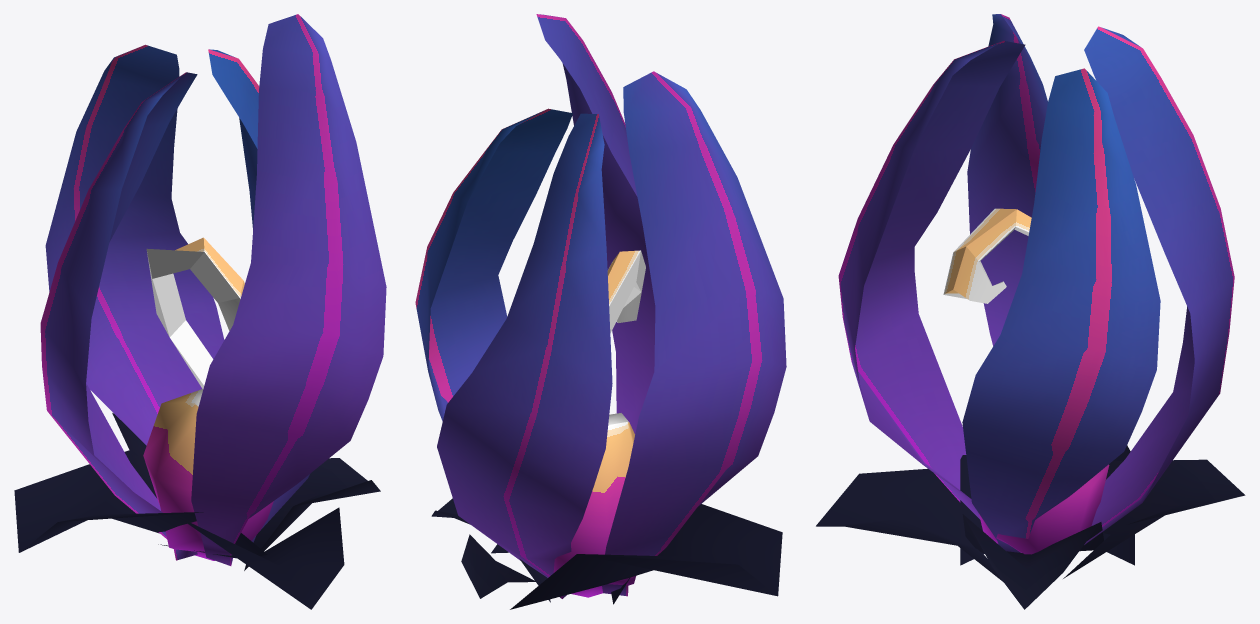
Rendered from EncasedPlant2.fbx.
3 views of the same model, side by side, from view 1: azimuth 30°, elevation 25°; view 2: azimuth 150°, elevation 25°; view 3: azimuth 270°, elevation 25° (orthographic). The views are drawn at different scales.
Visible parts, largest first — view 1: pCube4; view 2: pCube4; view 3: pCube4.
Boxes of the visible parts, left/top/right/bottom form: pCube4: left=14, top=14, right=386, bottom=609; pCube4: left=415, top=14, right=786, bottom=609; pCube4: left=816, top=14, right=1245, bottom=609.
Bounding box in the file's own units: 2.39 × 3.53 × 2.46.
